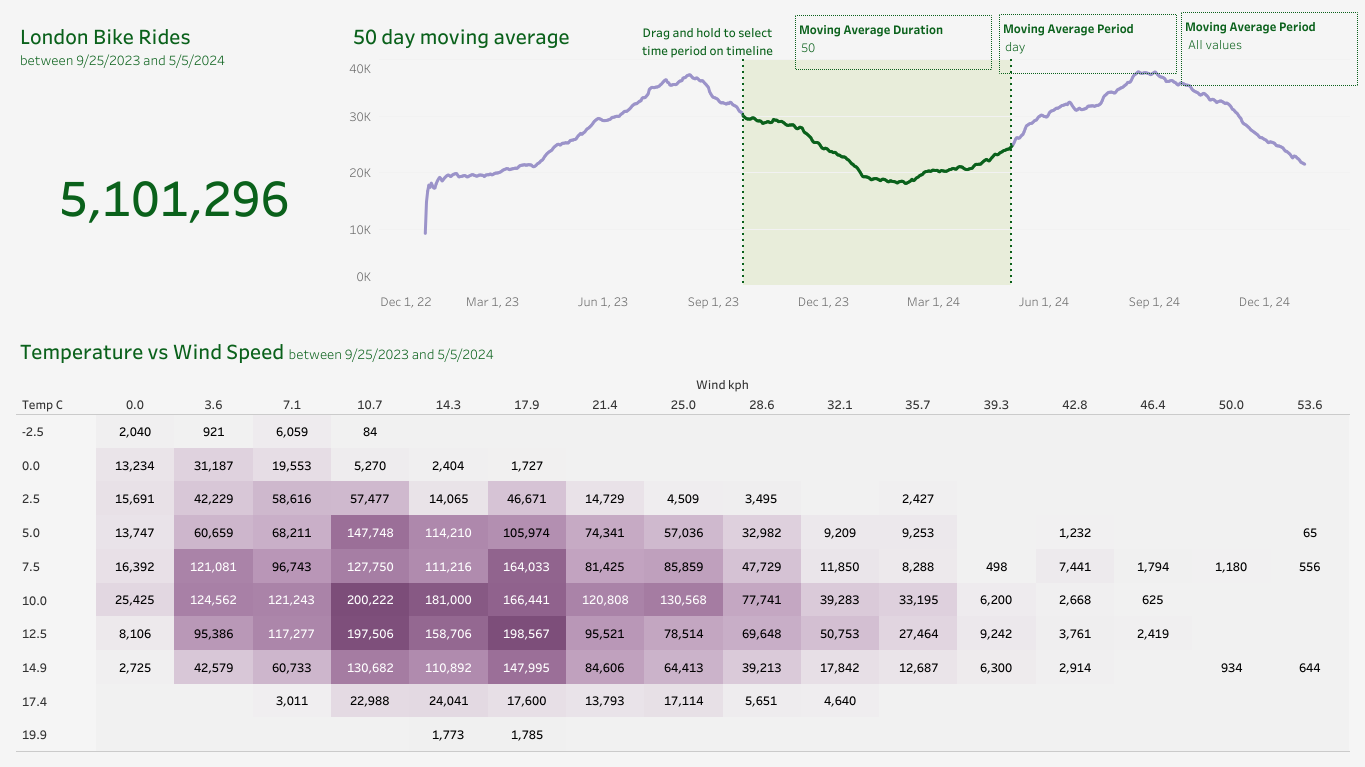

The dashboard page shown, as its layout file describes it:
{"tool":"tableau","page":{"name":"Dashboard","canvas":[1366,768],"ordinal":0},"visuals":[{"type":"worksheet","title":"TotalRides","mark":"Automatic","box":[8,8,333,315]},{"type":"worksheet","title":"MovingAverage","mark":"Automatic","rows":["Calculation1"],"cols":["Calculation_562105582437994497"],"box":[341,8,1017,315]},{"type":"filter","title":"MovingAverage","param":"[federated.0mis8q20b7f6ol1fv3g8e18yxlzk].[none:Calculation_562105582437994497:qk","box":[1181,12,177,74]},{"type":"parameter","param":"[Parameters].[Parameter 1]","box":[999,14,178,60]},{"type":"parameter","param":"[Parameters].[Parameter 2]","box":[795,15,197,55]},{"type":"text","box":[622,20,171,42]},{"type":"worksheet","title":"Heatmap","mark":"Square","rows":["temp real C (bin)"],"cols":["Wind Speed Kph (bin)"],"box":[8,323,1350,437]}]}

Visuals, with their boxes in screenshot pixels (x1, y1, x2, y2), scaled from the page's 1366x768 canvas onto the 1365x767 screenshot:
"TotalRides" worksheet: detection(8, 8, 341, 323)
"MovingAverage" worksheet: detection(341, 8, 1357, 323)
"MovingAverage" filter: detection(1180, 12, 1357, 86)
parameter: detection(998, 14, 1176, 74)
parameter: detection(794, 15, 991, 70)
text: detection(622, 20, 792, 62)
"Heatmap" worksheet (Square marks): detection(8, 323, 1357, 759)
